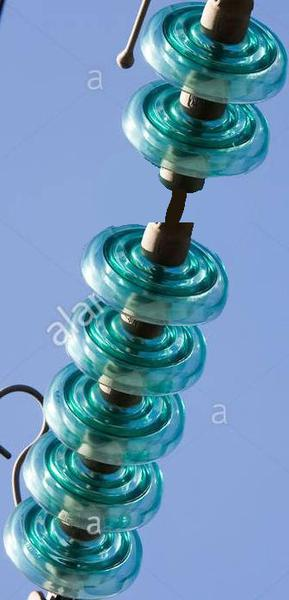gap: (78, 76, 271, 327)
